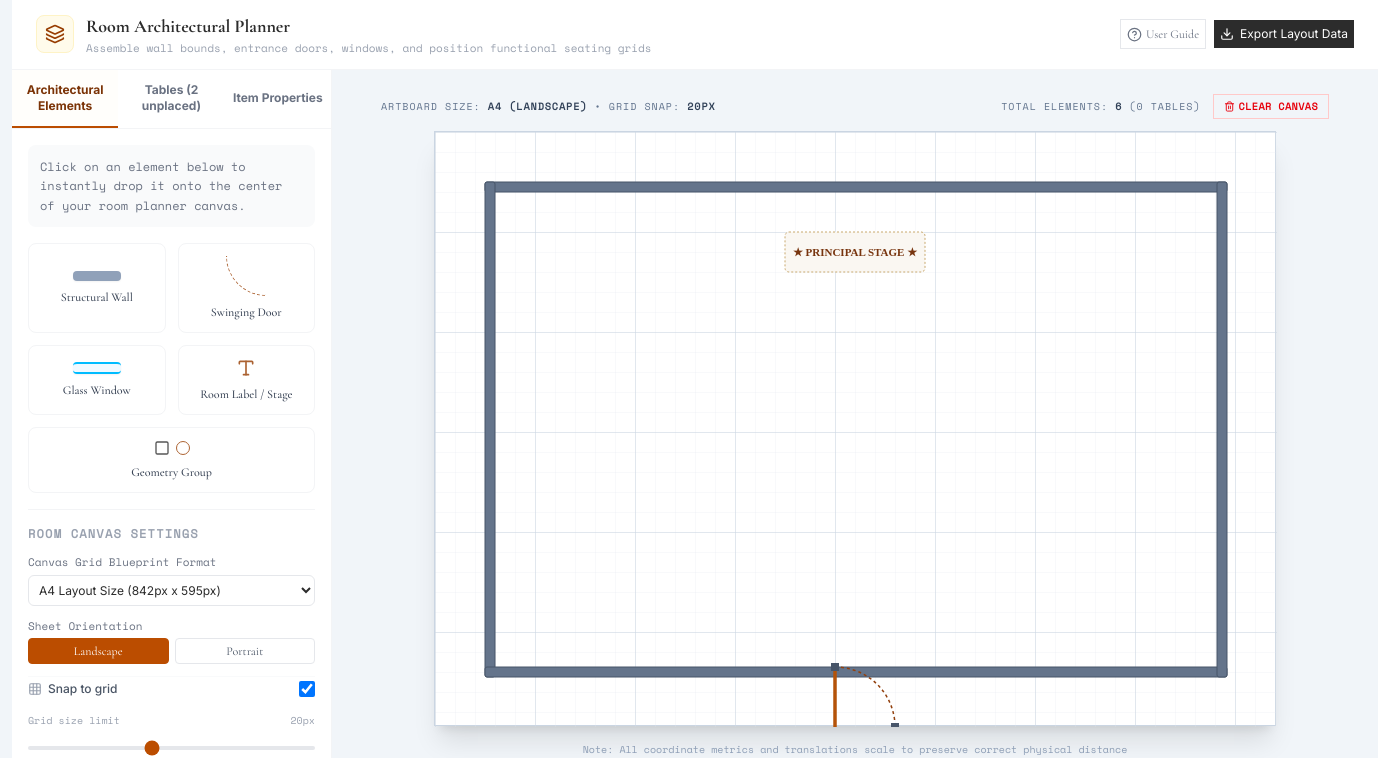
LayoutDesigner Component Testing Suite › constructs a new coordinate canvas element node when a table proxy is deployed
What coordinates should you click on to do the following:
click the button "Tables (2 unplaced)"
I would click on:
 (171, 98)
Its box is [118, 70, 225, 128].
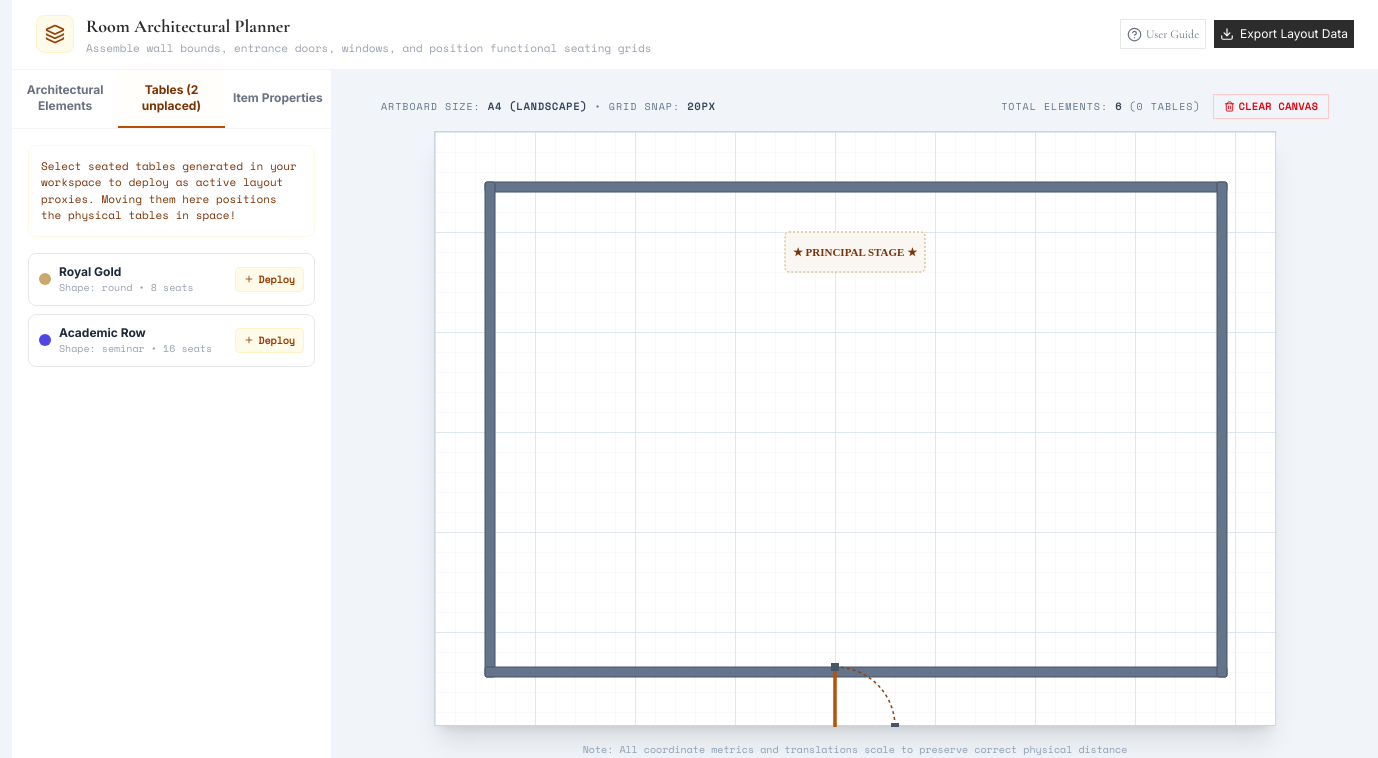
expect the button "Deploy" in the row of "round" is shown: met
What coordinates should you click on to do the following:
click the button "Deploy" in the row of "round"
I would click on:
 (270, 279)
Its box is [235, 266, 304, 292].
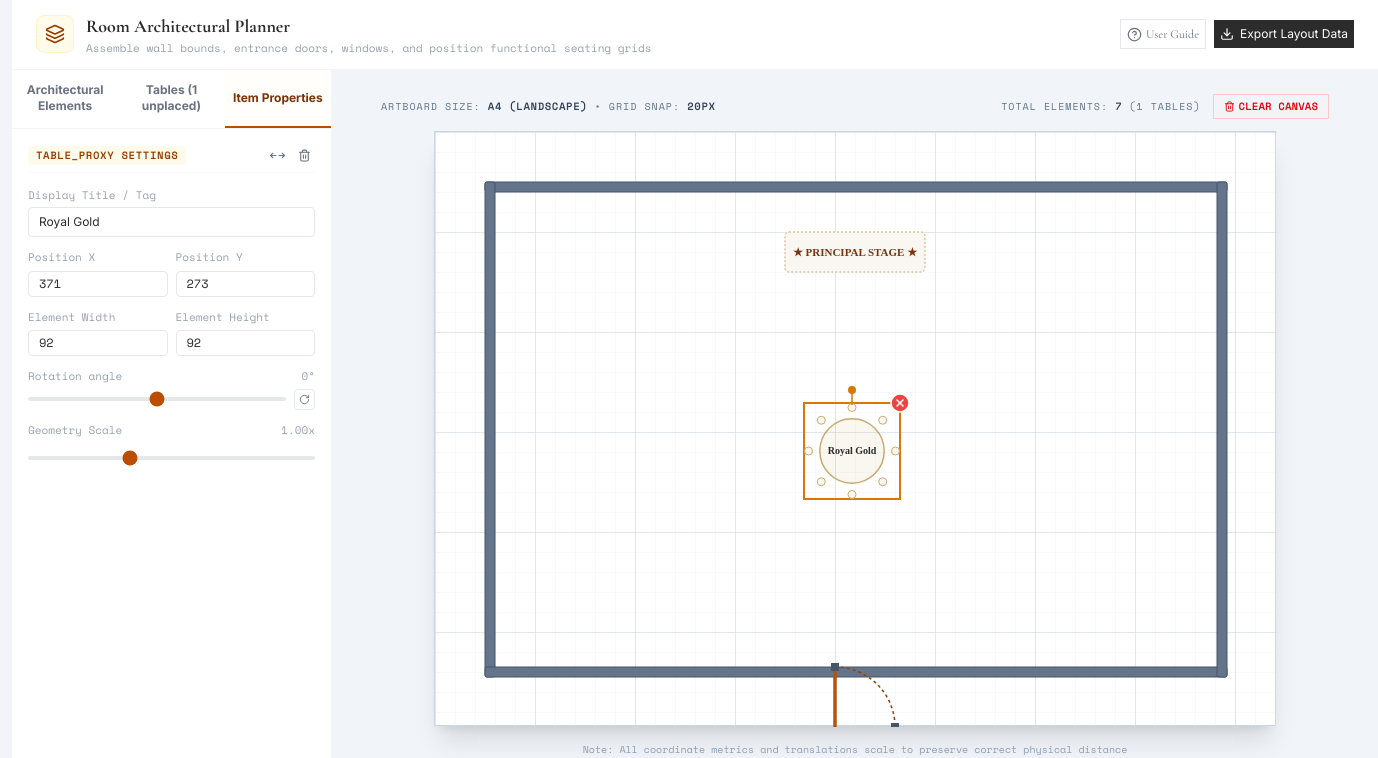
expect the button "Item Properties" is shown: met, box [225, 70, 331, 128]
expect the text "table_proxy Settings" is shown: met, box [28, 146, 186, 164]
